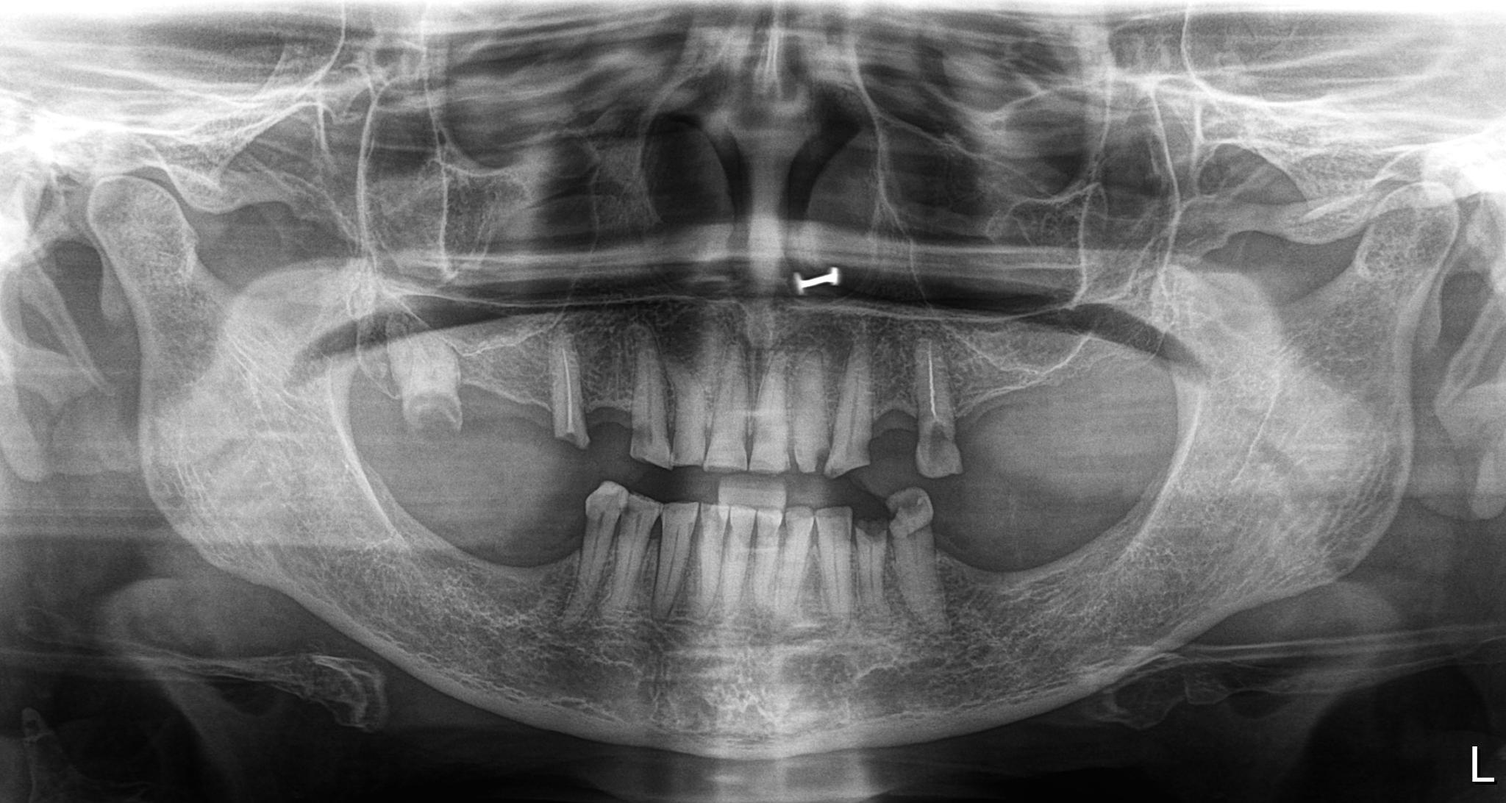Dental Caries: (857, 496, 955, 555), (397, 379, 467, 439), (624, 403, 692, 461)
Endodontically Treated Tooth: (906, 325, 967, 483), (556, 333, 592, 448)
Missing Tooth: (393, 482, 476, 605), (971, 335, 1033, 477), (1046, 325, 1098, 481), (1107, 320, 1155, 468), (529, 485, 583, 606), (493, 336, 546, 451), (1094, 493, 1151, 599), (871, 342, 916, 474), (967, 502, 1024, 602), (1035, 495, 1083, 605), (483, 485, 520, 609), (592, 342, 626, 443)
